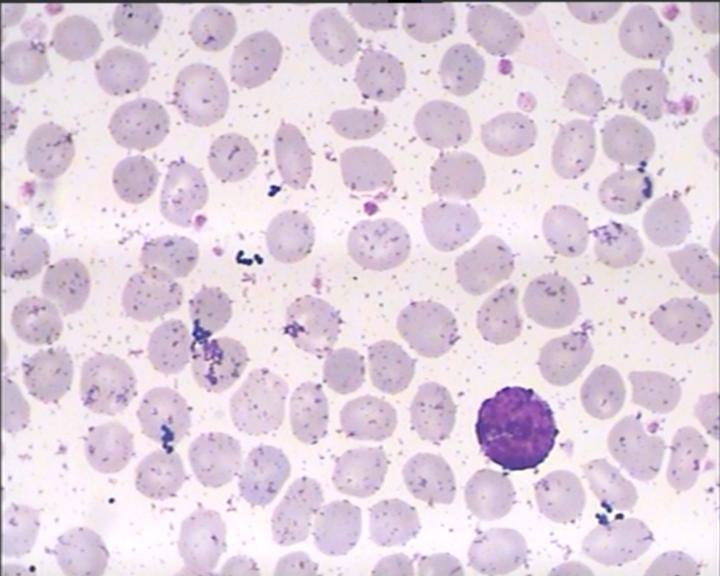baso: (471, 382, 560, 472)
